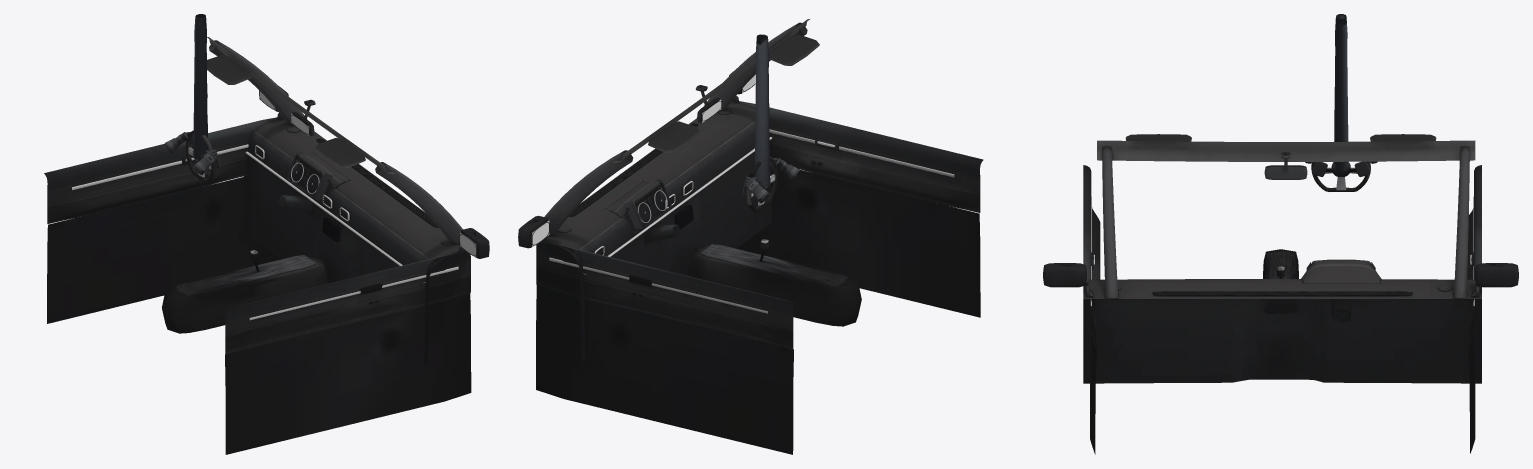
Rendered from cockpit_low.glb.
3 views of the same model, side by side, from view 1: azimuth 30°, elevation 25°; view 2: azimuth 150°, elevation 25°; view 3: azimuth 270°, elevation 25° (orthographic). The views are drawn at different scales.
Parts seen in each view (by area): view 1: cockpit_shell, cockpit_forearm_l, cockpit_trim, cockpit_hands, cockpit_wheel, cockpit_mirror_glass; view 2: cockpit_shell, cockpit_forearm_l, cockpit_trim, cockpit_hands, cockpit_wheel, cockpit_mirror_glass; view 3: cockpit_shell, cockpit_forearm_l, cockpit_wheel.
Part boxes in pixels (left/top/right/bottom): cockpit_shell: left=44, top=37, right=489, bottom=454; cockpit_forearm_l: left=193, top=14, right=207, bottom=159; cockpit_trim: left=72, top=144, right=458, bottom=320; cockpit_hands: left=164, top=132, right=217, bottom=174; cockpit_wheel: left=185, top=130, right=219, bottom=183; cockpit_mirror_glass: left=259, top=91, right=476, bottom=257; cockpit_shell: left=518, top=19, right=983, bottom=454; cockpit_forearm_l: left=754, top=34, right=770, bottom=187; cockpit_trim: left=549, top=129, right=954, bottom=313; cockpit_hands: left=744, top=158, right=799, bottom=203; cockpit_wheel: left=742, top=156, right=778, bottom=212; cockpit_mirror_glass: left=532, top=74, right=755, bottom=246; cockpit_shell: left=1043, top=134, right=1518, bottom=454; cockpit_forearm_l: left=1334, top=14, right=1348, bottom=171; cockpit_wheel: left=1311, top=161, right=1370, bottom=191.
Size of the model in its own units: 2.1 by 2.35 by 2.84.
Materials: 4 (2 with a texture image).
